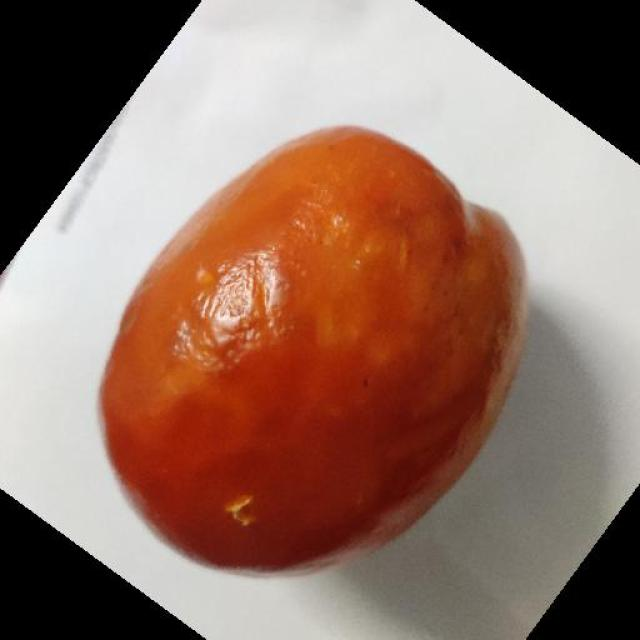Stale_tomato: (90, 132, 510, 560)
